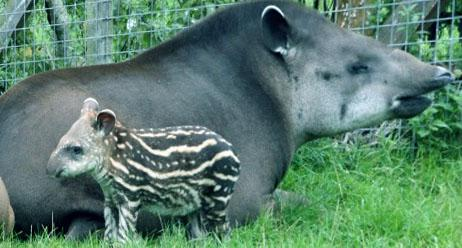Anta: (3, 5, 458, 236), (42, 95, 250, 244)
